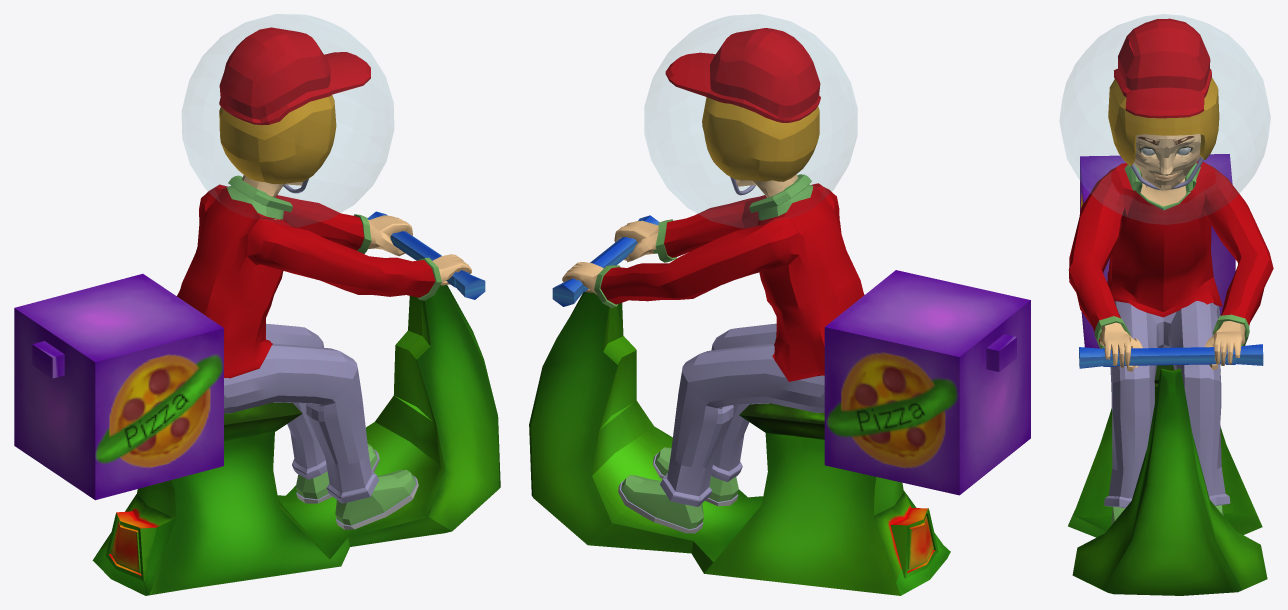
Rendered from Expanding Space Pizza Boy.fbx.
The picture shows the model from 3 angles, left to right: view 1: azimuth 30°, elevation 25°; view 2: azimuth 150°, elevation 25°; view 3: azimuth 270°, elevation 25°; orthographic projection.
Parts seen in each view (by area): view 1: scooter, Cube, torso_1, Broek, helm, hoed, helm_2, Cylinder; view 2: scooter, Cube, torso_1, Broek, helm, hoed, helm_2, Cylinder; view 3: torso_1, scooter, helm, Broek, hoed, helm_2, Cube, Cylinder, head_1, Sweep.
Boxes of the visible parts, x1,y1,x2,y2 form: scooter: (92,285,500,595); Cube: (14,273,223,500); torso_1: (177,175,471,378); Broek: (224,323,418,529); helm: (182,14,393,226); hoed: (219,27,370,124); helm_2: (219,95,336,183); Cylinder: (367,211,485,299); scooter: (529,292,950,595); Cube: (824,270,1030,495); torso_1: (562,174,864,381); Broek: (618,323,824,533); helm: (645,14,857,227); hoed: (665,28,820,122); helm_2: (702,97,819,181); Cylinder: (552,215,659,306); torso_1: (1068,161,1273,371); scooter: (1068,365,1267,595); helm: (1060,14,1270,224); Broek: (1104,301,1230,525); hoed: (1113,18,1211,118); helm_2: (1108,77,1219,165); Cube: (1080,154,1235,348); Cylinder: (1079,344,1263,368); head_1: (1133,134,1200,190); Sweep: (1130,157,1203,190).
Bounding box in the file's own units: 693 × 742 × 286.
Materials: 15 (4 with a texture image).
